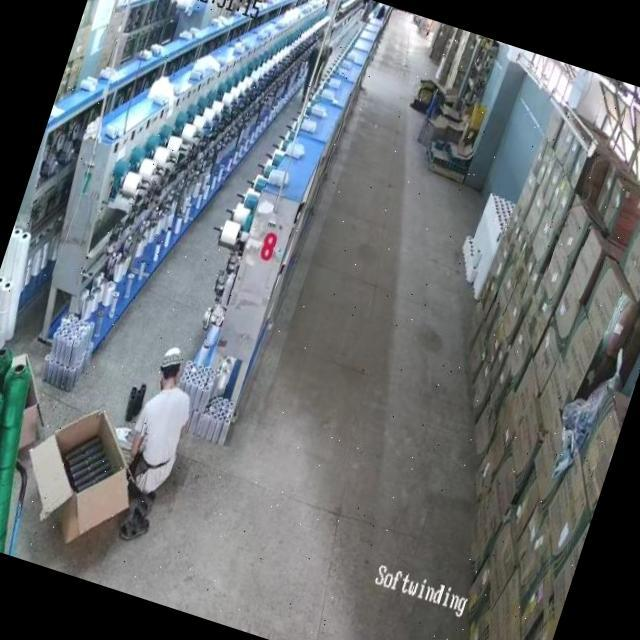person: (128, 350, 210, 498), (300, 36, 338, 87)
